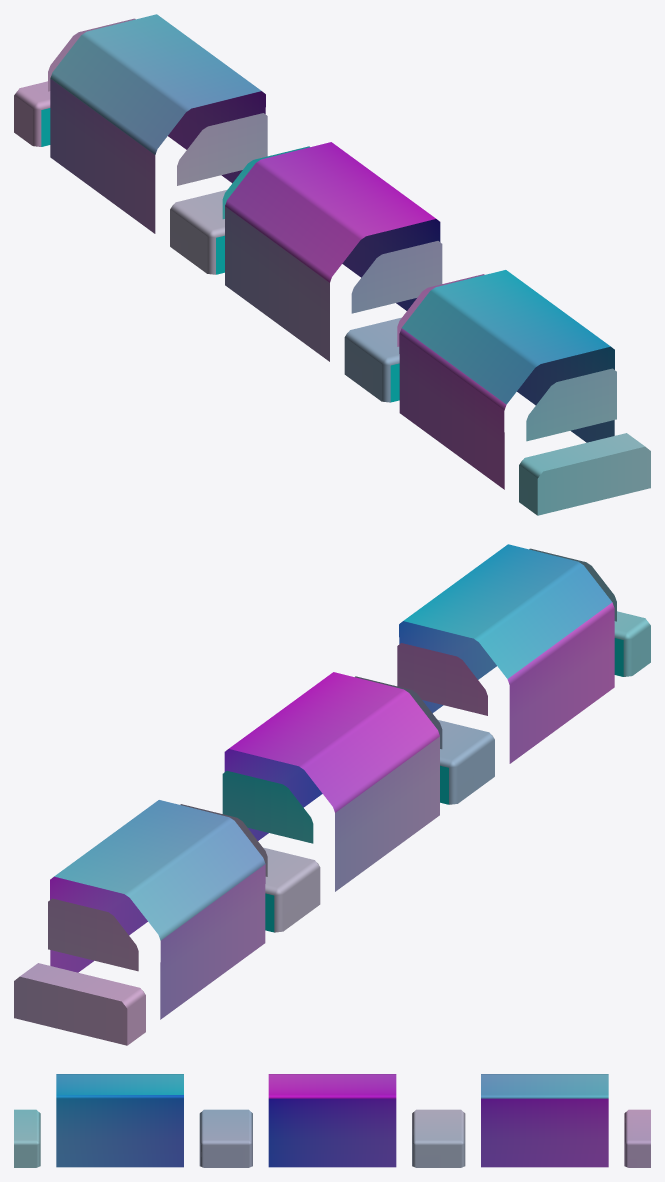
3 renders of one model, top to bottom at view 1: azimuth 30°, elevation 25°; view 2: azimuth 150°, elevation 25°; view 3: azimuth 270°, elevation 25°, orthographic. The views are drawn at different scales.
Visible parts, largest first — view 1: SM_Dowdun_Doorway_Insert_01_LOD0; view 2: SM_Dowdun_Doorway_Insert_01_LOD0; view 3: SM_Dowdun_Doorway_Insert_01_LOD0.
Part boxes in pixels (left/top/right/bottom): SM_Dowdun_Doorway_Insert_01_LOD0: left=14, top=14, right=650, bottom=515; SM_Dowdun_Doorway_Insert_01_LOD0: left=14, top=544, right=650, bottom=1045; SM_Dowdun_Doorway_Insert_01_LOD0: left=14, top=1074, right=650, bottom=1167.
Size of the model in its own units: 1 by 0.9893 by 8.
